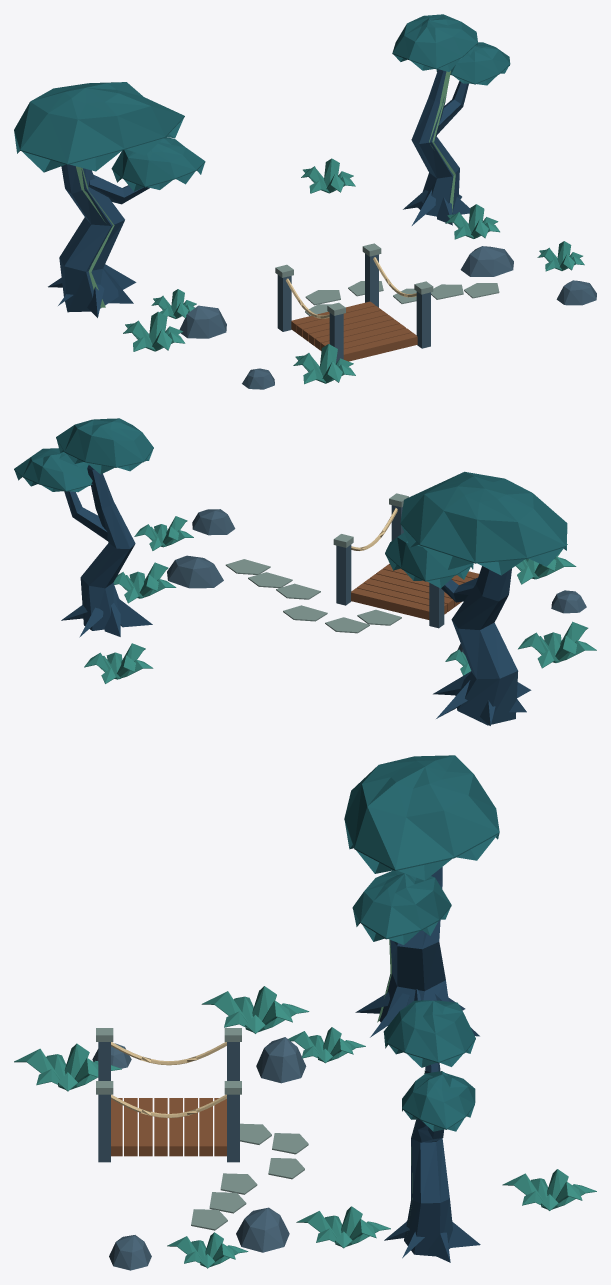
The model's file is decoration.glb.
3 renders of one model, top to bottom at view 1: azimuth 30°, elevation 25°; view 2: azimuth 150°, elevation 25°; view 3: azimuth 270°, elevation 25°, orthographic. The views are drawn at different scales.
Visible parts, largest first — view 1: Tree_Castle_0, Tree_Castle_1, Decor_Castle_Understory, Decor_Castle_RopeBridge, Decor_Castle_Paving; view 2: Tree_Castle_0, Tree_Castle_1, Decor_Castle_Understory, Decor_Castle_RopeBridge, Decor_Castle_Paving; view 3: Tree_Castle_0, Decor_Castle_Understory, Tree_Castle_1, Decor_Castle_RopeBridge, Decor_Castle_Paving.
Part boxes in pixels (box(x1,y1,x2,y2)): Tree_Castle_0: box(14, 82, 205, 317); Tree_Castle_1: box(392, 14, 510, 225); Decor_Castle_Understory: box(123, 158, 596, 389); Decor_Castle_RopeBridge: box(275, 243, 433, 362); Decor_Castle_Paving: box(305, 281, 499, 316); Tree_Castle_0: box(385, 471, 567, 725); Tree_Castle_1: box(14, 418, 153, 637); Decor_Castle_Understory: box(84, 509, 596, 683); Decor_Castle_RopeBridge: box(333, 493, 479, 628); Decor_Castle_Paving: box(225, 559, 401, 633); Tree_Castle_0: box(344, 755, 499, 1037); Decor_Castle_Understory: box(14, 986, 596, 1270); Tree_Castle_1: box(383, 1000, 480, 1262); Decor_Castle_RopeBridge: box(96, 1028, 241, 1162); Decor_Castle_Paving: box(191, 1123, 308, 1230).
Bounding box in the file's own units: 1.96 × 0.7984 × 1.59.
